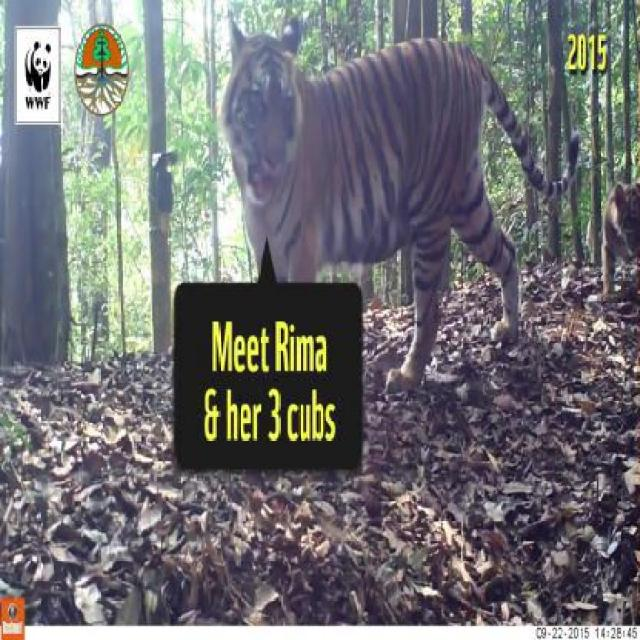Tiger: (218, 9, 582, 394)
